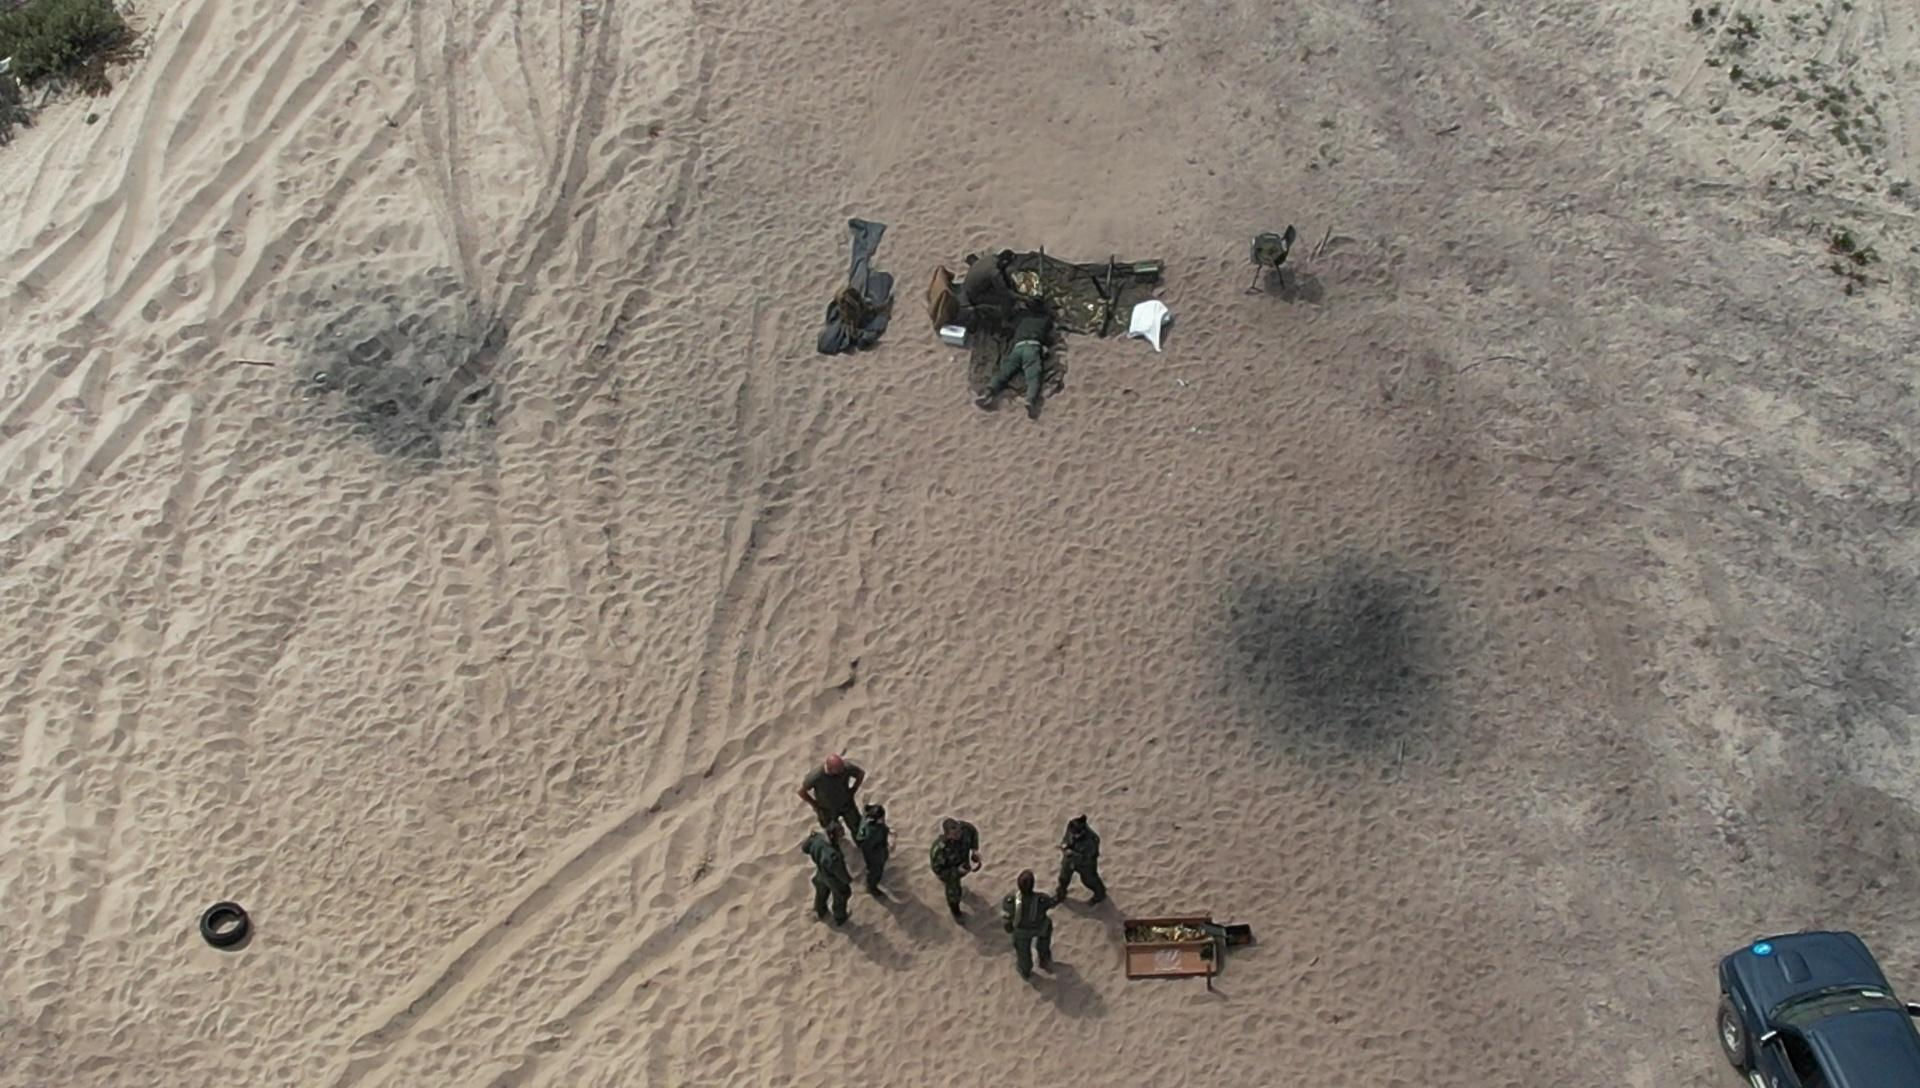Soldier: (971, 269, 1064, 425), (798, 756, 886, 881), (1043, 802, 1124, 938), (992, 870, 1075, 986), (803, 804, 873, 926), (920, 802, 996, 913), (926, 801, 986, 931), (956, 245, 1026, 326)
